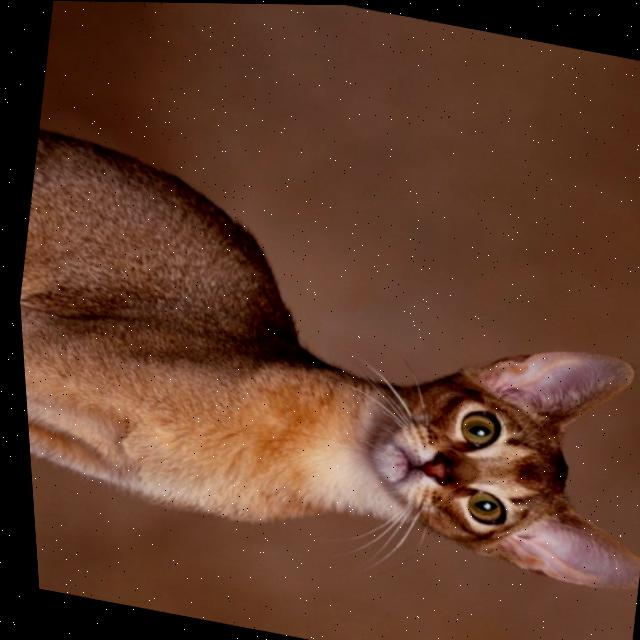Abyssinian: (6, 122, 640, 599)
